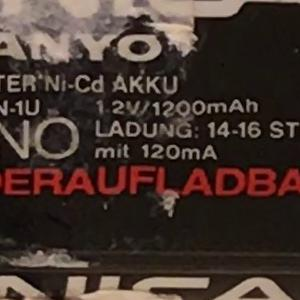NI-CD: (29, 65, 100, 96)
